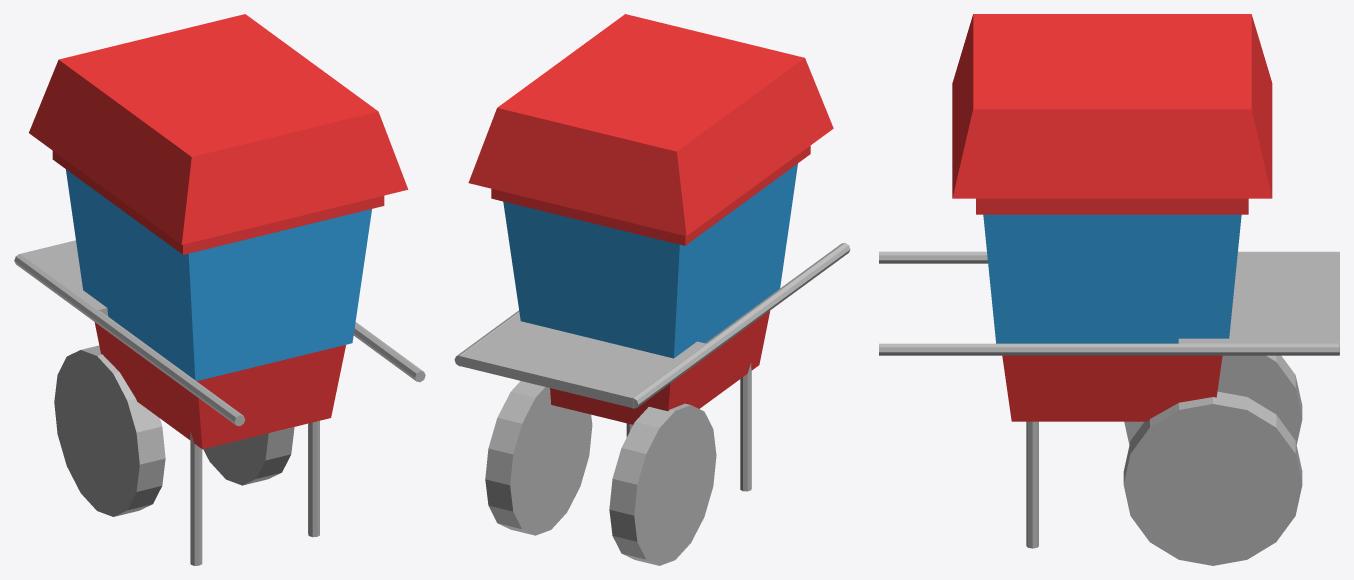
Rendered from carrinhoPipoca.fbx.
The picture shows the model from 3 angles, left to right: view 1: azimuth 30°, elevation 25°; view 2: azimuth 150°, elevation 25°; view 3: azimuth 270°, elevation 25°; orthographic projection. The views are drawn at different scales.
Visible parts, largest first — view 1: carrinhoPipoca; view 2: carrinhoPipoca; view 3: carrinhoPipoca.
Boxes of the visible parts, left/top/right/bottom form: carrinhoPipoca: left=14, top=14, right=425, bottom=565; carrinhoPipoca: left=454, top=14, right=850, bottom=565; carrinhoPipoca: left=879, top=14, right=1339, bottom=565.
Size of the model in its own units: 63.93 by 119 by 108.
